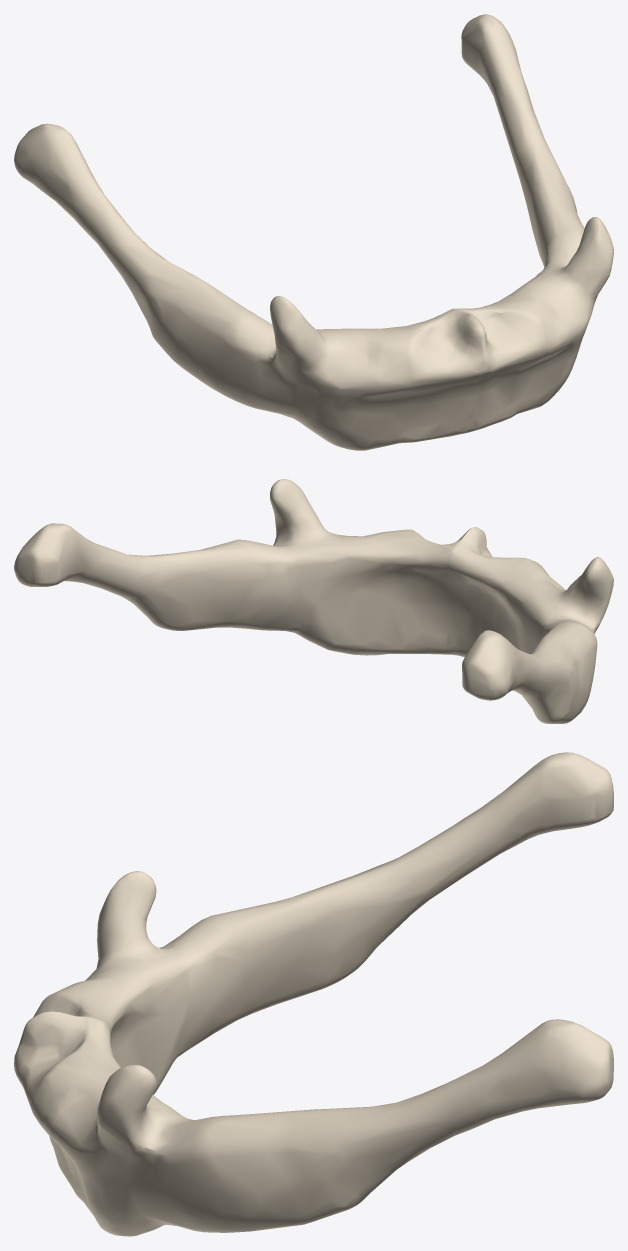
File: skeletal.neck.glb
The picture shows the model from 3 angles, top to bottom: view 1: azimuth 30°, elevation 25°; view 2: azimuth 150°, elevation 25°; view 3: azimuth 270°, elevation 25°; orthographic projection. The views are drawn at different scales.
Visible parts, largest first — view 1: hyoid_bone; view 2: hyoid_bone; view 3: hyoid_bone.
Boxes of the visible parts, x1,y1,x2,y2 form: hyoid_bone: [14, 14, 613, 450]; hyoid_bone: [14, 479, 613, 723]; hyoid_bone: [14, 752, 613, 1236].
Bounding box in the file's own units: 0.0419 × 0.0186 × 0.035.
